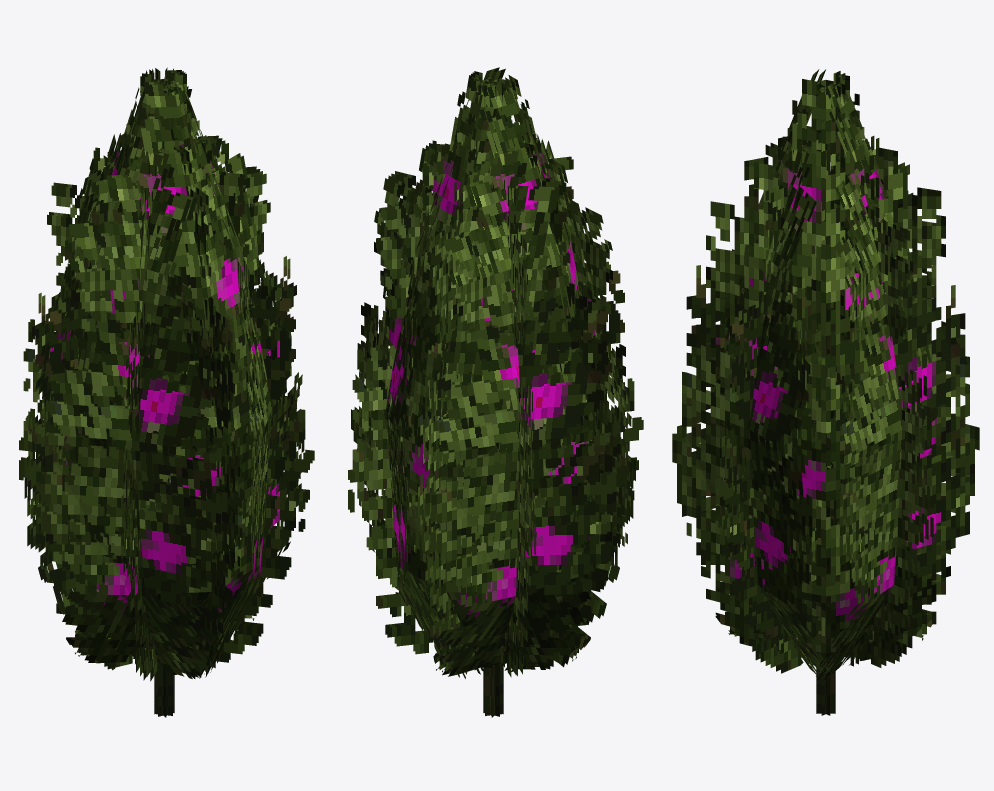
Rendered from bush05_spring4.glb.
3 views of the same model, side by side, from view 1: azimuth 30°, elevation 25°; view 2: azimuth 150°, elevation 25°; view 3: azimuth 270°, elevation 25° (orthographic).
Visible parts, largest first — view 1: bush05; view 2: bush05; view 3: bush05.
Part boxes in pixels (x1=…): bush05: x1=19, y1=67, x2=314, y2=717; bush05: x1=348, y1=67, x2=643, y2=717; bush05: x1=672, y1=69, x2=979, y2=715.
Bounding box in the file's own units: 0.66 × 1.5 × 0.66.
1 material, 1 textured.
